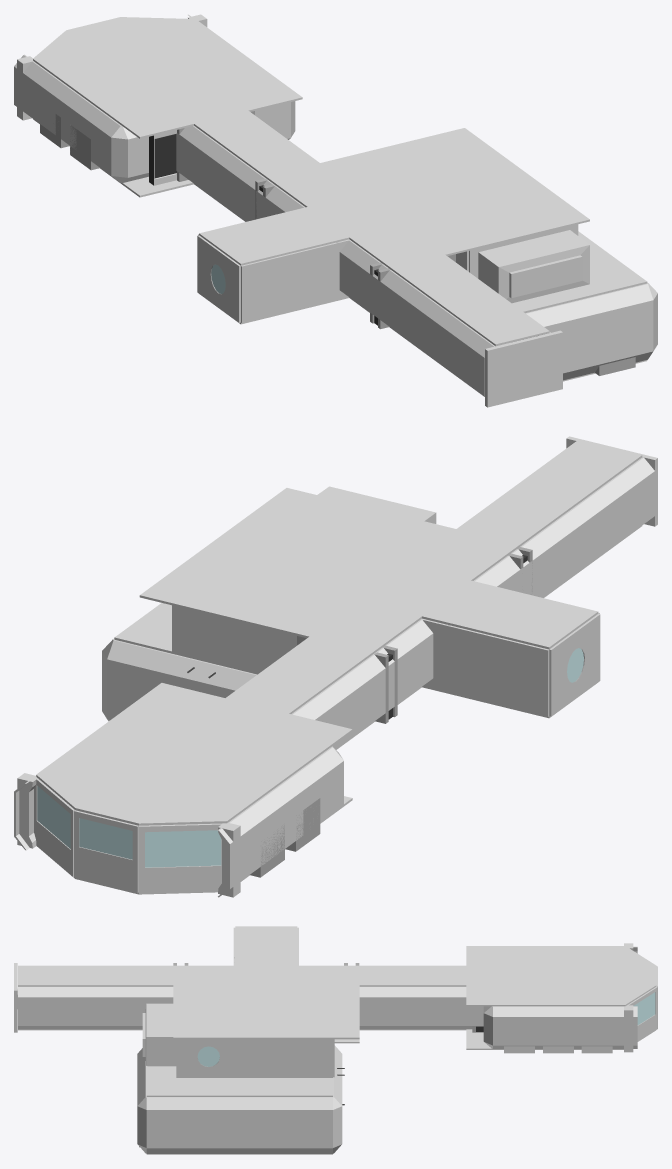
File: level_applied.fbx
3 renders of one model, top to bottom at view 1: azimuth 30°, elevation 25°; view 2: azimuth 150°, elevation 25°; view 3: azimuth 270°, elevation 25°, orthographic. The views are drawn at different scales.
Parts seen in each view (by area): view 1: room.bed, wall, doorway.001, wall.006, wall.005, wall.008, wall.009, room.wall.007, wall.007, room.wall.009, room.wall.016, floor.113 (+56 smaller); view 2: wall, wall.008, room.wall.005, room.wall.004, wall.005, navigation.window, floor.113, room.wall.014, wall.007, room.wall.009, room.wall.016, room.wall.012 (+61 smaller); view 3: wall.006, wall, wall.008, wall.005, wall.007, room.wall.002, room.bed, room.wall.011, room.wall.013, floor.113, wall.009, floor.063 (+58 smaller).
Boxes of the visible parts, x1,y1,x2,y2 form: room.bed: (469,224,589,303); wall: (380,270,550,396); doorway.001: (485,330,562,407); wall.006: (539,292,617,380); wall.005: (176,126,265,221); wall.008: (14,14,193,165); wall.009: (97,101,295,182); room.wall.007: (241,251,301,323); wall.007: (525,282,657,362); room.wall.009: (301,239,349,308); room.wall.016: (197,235,240,322); floor.113: (33,17,194,58); wall: (520,457,654,597); wall.008: (14,758,327,897); room.wall.005: (478,632,549,716); room.wall.004: (34,777,224,893); wall.005: (291,654,385,749); navigation.window: (37,786,221,867); floor.113: (36,774,226,825); room.wall.014: (172,605,242,669); wall.007: (102,638,256,721); room.wall.009: (421,618,478,699); room.wall.016: (549,613,600,716); room.wall.012: (74,810,138,893); wall.006: (137,1058,342,1153); wall: (18,986,173,1029); wall.008: (513,946,637,1048); wall.005: (359,986,483,1029); wall.007: (137,1045,342,1153); room.wall.002: (177,1039,239,1077); room.bed: (142,1003,177,1077); room.wall.011: (240,1039,286,1077); room.wall.013: (286,1039,332,1077); floor.113: (625,946,656,1005); wall.009: (483,1006,513,1048); floor.063: (452,965,497,986).
Size of the model in its own units: 1987 by 730 by 4147.
